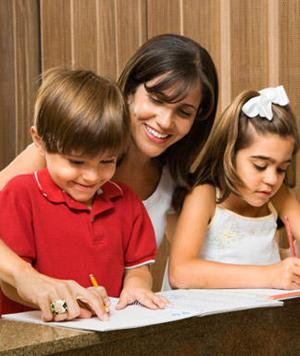person: (163, 87, 300, 294)
